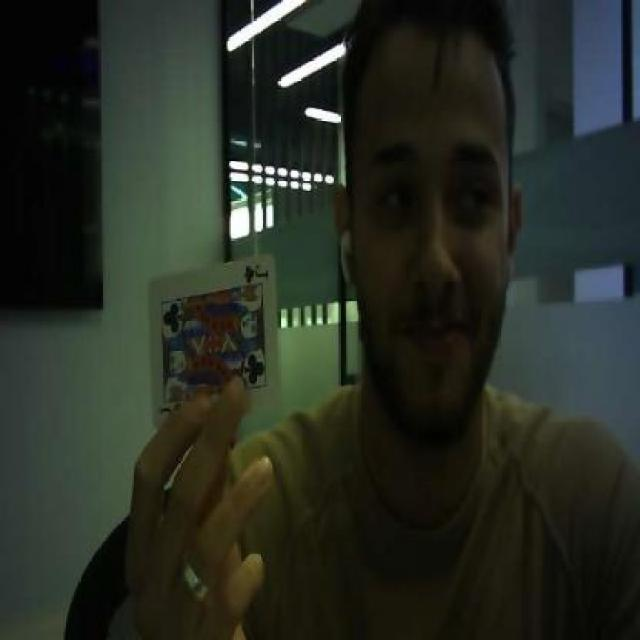JC: (240, 260, 272, 285)
